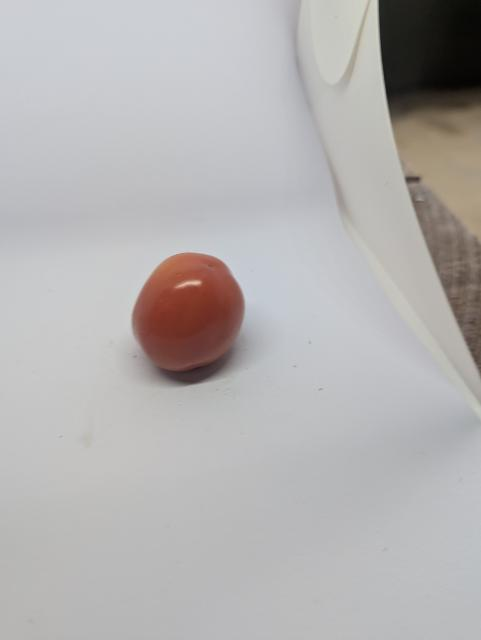red: (130, 238, 258, 380)
